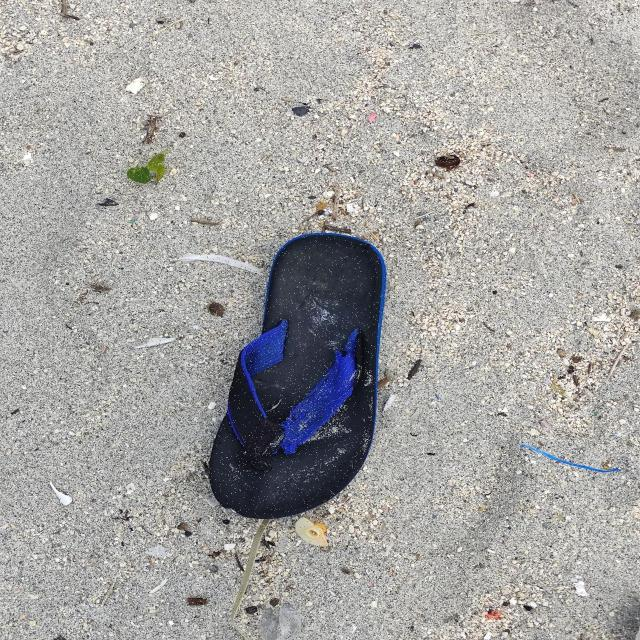rubber_waste: (208, 234, 389, 521)
